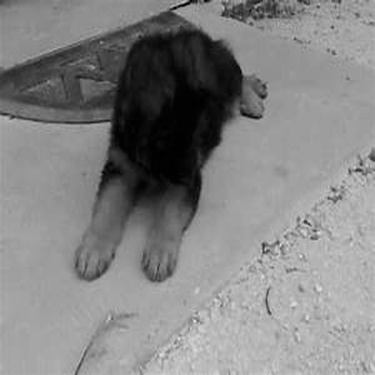dog: (64, 26, 280, 292)
